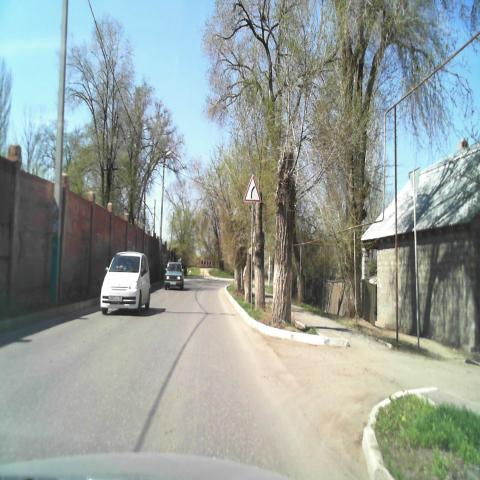1_11: (244, 175, 262, 206)
